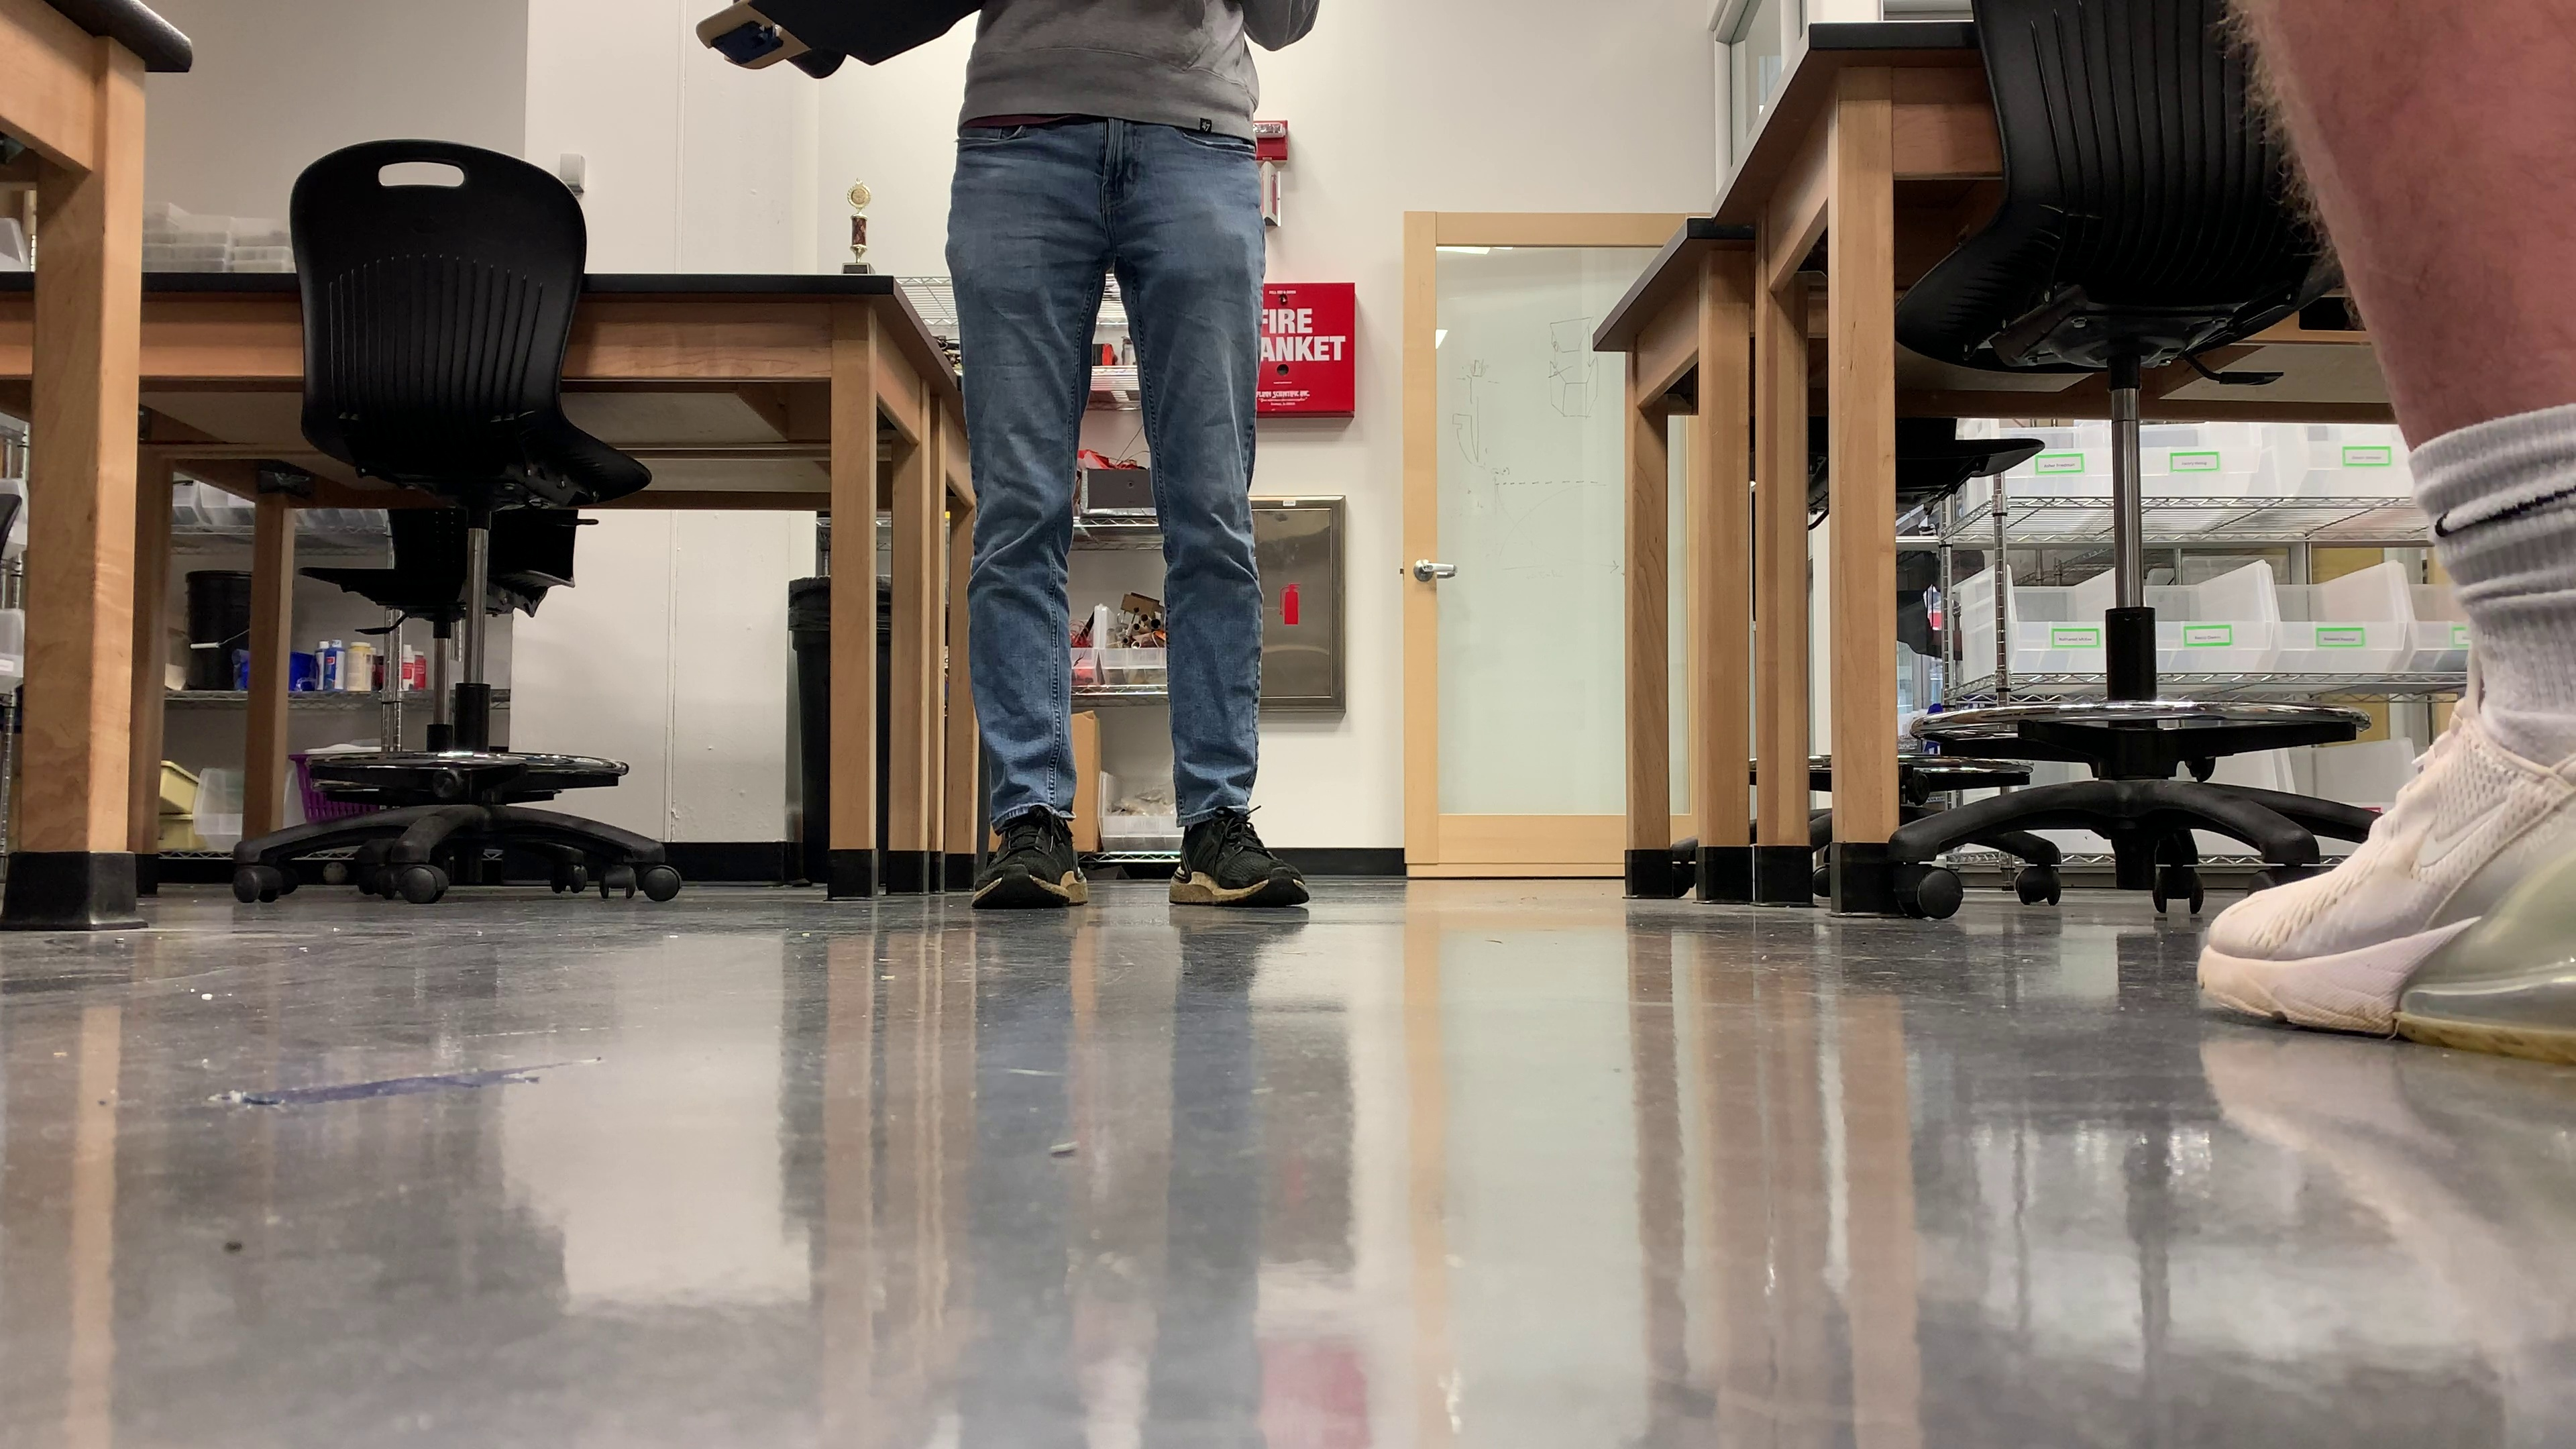shoe: (2196, 637, 2576, 1062), (1169, 816, 1307, 908), (971, 809, 1088, 911)
